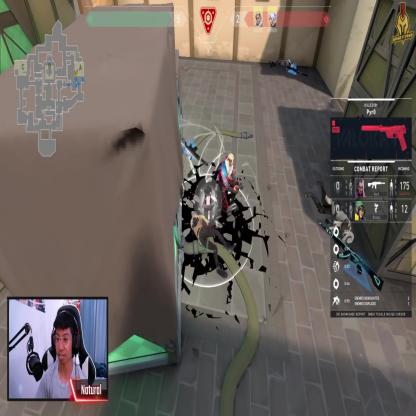enemy: (214, 151, 240, 214)
enemy_head: (227, 153, 234, 167)
